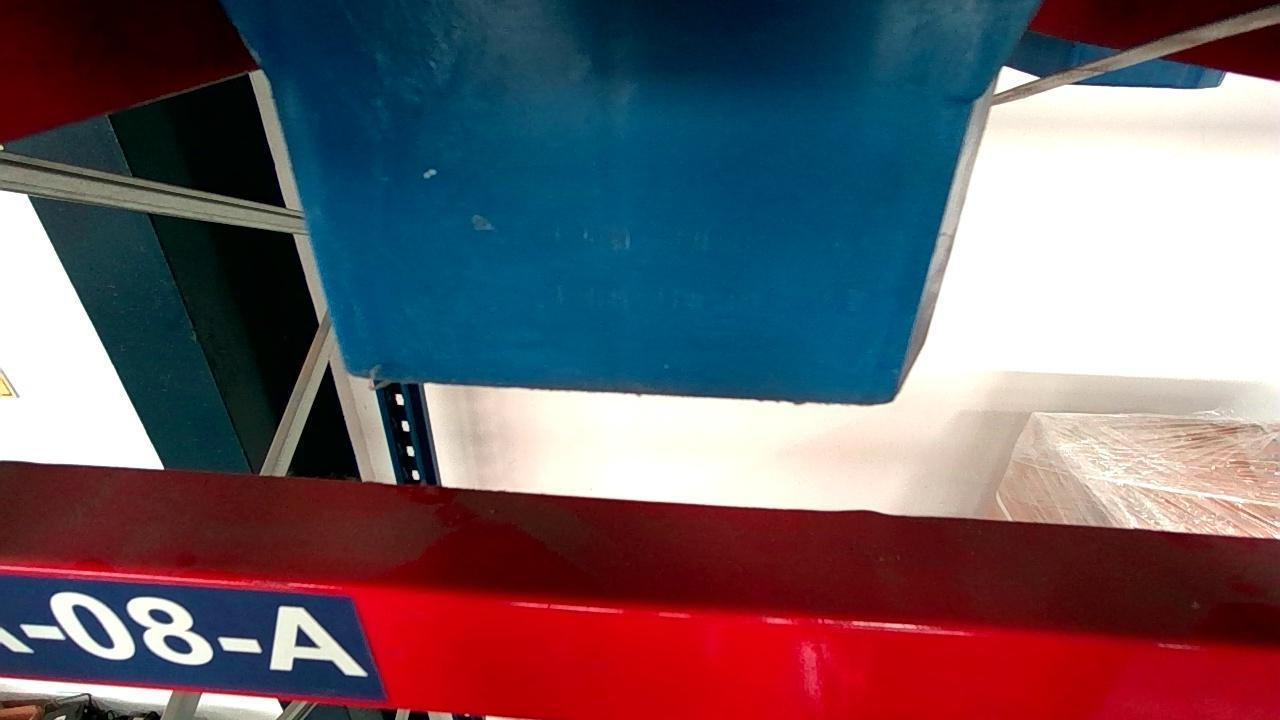h_rack: (2, 567, 1280, 720)
